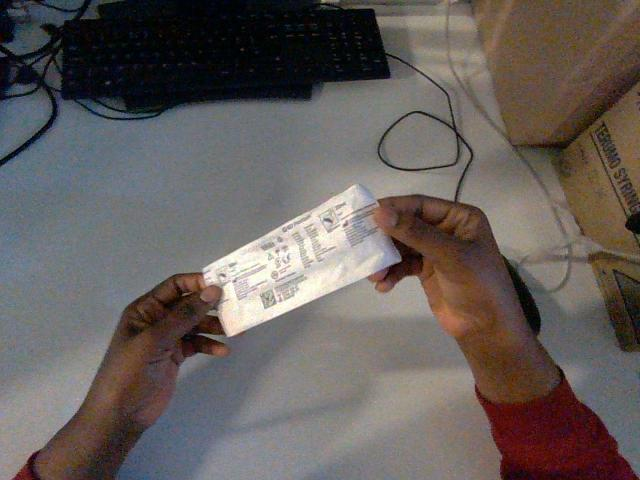syringe: (203, 184, 400, 335)
